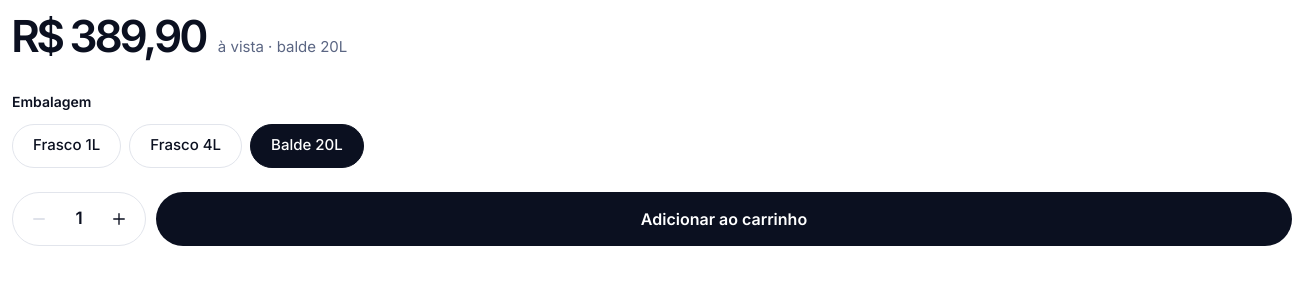
embalagem, preço e quantidade › PDP-01.14: o botão ao lado da quantidade é Adicionar ao carrinho
Click the button "Adicionar ao carrinho". click: (724,218)
box: left=156, top=192, right=1292, bottom=246
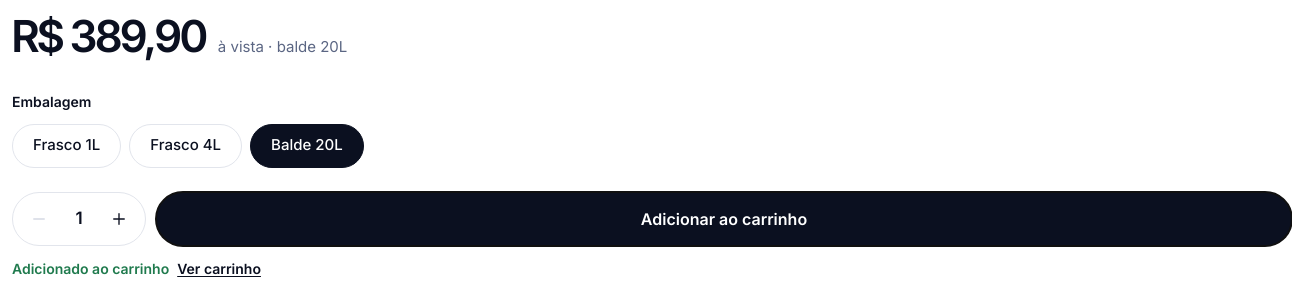
Result: the message shows "Adicionado ao carrinho" at left=12, top=260, right=169, bottom=276
